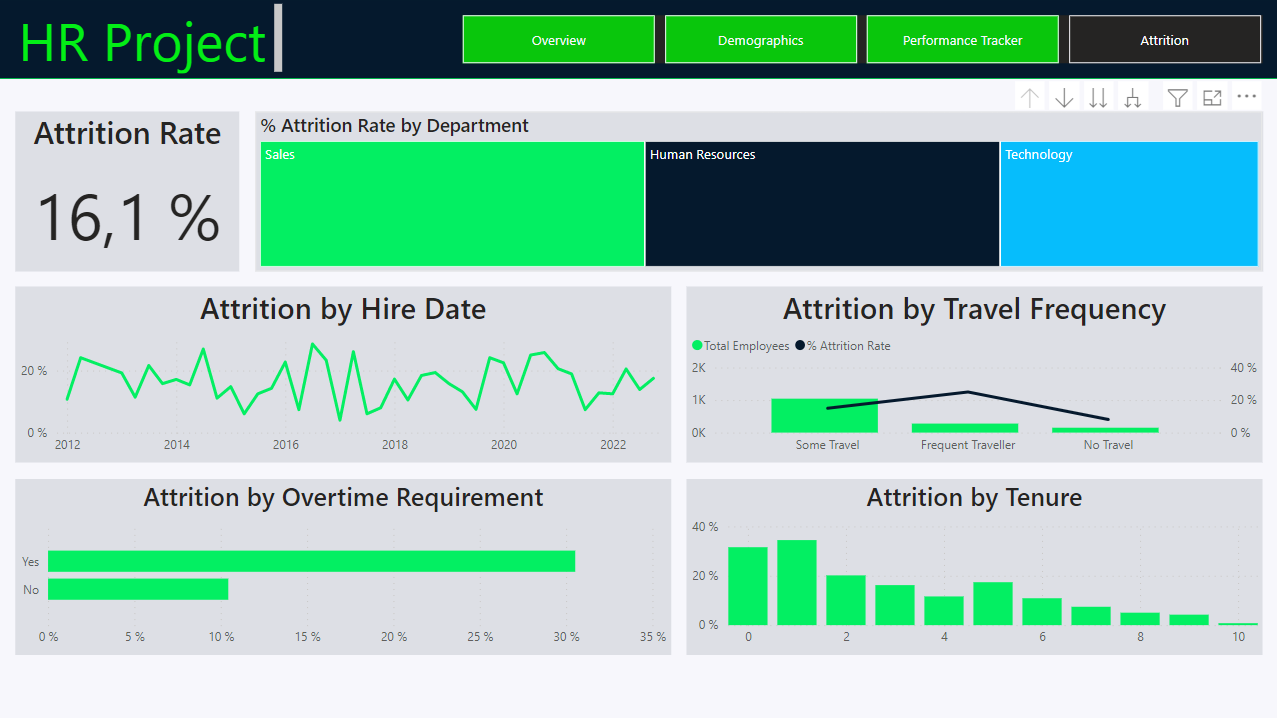

The dashboard page shown, as its layout file describes it:
{"tool":"powerbi","page":{"name":"Attrition","canvas":[1280,720],"ordinal":3},"visuals":[{"type":"shape","box":[0,0.3,1280,79.7],"z":0,"group":"g1"},{"type":"card","title":"Attrition Rate ","fields":{"Values":["_Measures.% Attrition Rate"]},"box":[16,112,224,160],"z":0},{"type":"textbox","box":[0,0,288,79.7],"z":1000,"group":"g1"},{"type":"treemap","fields":{"Values":["_Measures.% Attrition Rate"],"Group":["DimEmployee.Department","DimEmployee.JobRole"]},"box":[256,112,1008,160],"z":1000},{"type":"lineChart","title":"Attrition by Hire Date","fields":{"Y":["_Measures.% Attrition Rate Date"],"Category":["DimDate.Date.Variation.Date Hierarchy.Year","DimDate.Date.Variation.Date Hierarchy.Quarter"]},"box":[16,288,656,176],"z":2000},{"type":"lineStackedColumnComboChart","title":"Attrition by Travel Frequency","fields":{"Y2":["_Measures.% Attrition Rate"],"Category":["DimEmployee.BusinessTravel"],"Y":["_Measures.Total Employees"]},"box":[688,288,576,176],"z":3000},{"type":"group","id":"g1","title":"Group 1","box":[0,0,1280,80],"z":4000,"group":"g2"},{"type":"barChart","title":"Attrition by Overtime Requirement","fields":{"Y":["_Measures.% Attrition Rate"],"Category":["DimEmployee.OverTime"]},"box":[16,480,656,176],"z":4000},{"type":"clusteredColumnChart","title":"Attrition by Tenure","fields":{"Category":["DimEmployee.YearsAtCompany"],"Y":["_Measures.% Attrition Rate"]},"box":[688,480,576,176],"z":5000},{"type":"group","id":"g2","title":"Group 2","box":[0,0,1280,80],"z":6000},{"type":"pageNavigator","box":[464,16,800,48],"z":7000,"group":"g2"}]}

Visuals, with their boxes on the page's 1280x720 design canvas (x1, y1, x2, y2). These are canvas units, not pixel positions in the 1277x718 screenshot, which may show the page scaled, cropped or inside an application window:
shape: (left=0, top=0, right=1280, bottom=80)
"Attrition Rate " card: (left=16, top=112, right=240, bottom=272)
textbox: (left=0, top=0, right=288, bottom=80)
treemap - _Measures.% Attrition Rate x DimEmployee.Department: (left=256, top=112, right=1264, bottom=272)
"Attrition by Hire Date" lineChart: (left=16, top=288, right=672, bottom=464)
"Attrition by Travel Frequency" lineStackedColumnComboChart: (left=688, top=288, right=1264, bottom=464)
"Group 1" group: (left=0, top=0, right=1280, bottom=80)
"Attrition by Overtime Requirement" barChart: (left=16, top=480, right=672, bottom=656)
"Attrition by Tenure" clusteredColumnChart: (left=688, top=480, right=1264, bottom=656)
"Group 2" group: (left=0, top=0, right=1280, bottom=80)
pageNavigator: (left=464, top=16, right=1264, bottom=64)
